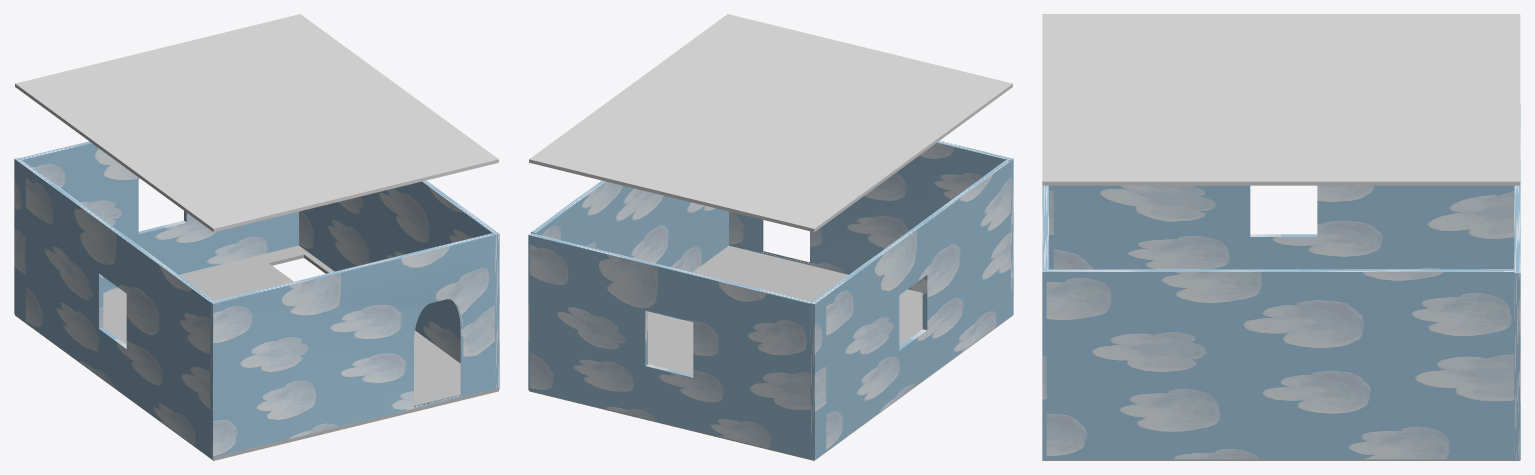
Rendered from duvarsonhali.fbx.
3 renders of one model, left to right at view 1: azimuth 30°, elevation 25°; view 2: azimuth 150°, elevation 25°; view 3: azimuth 270°, elevation 25°, orthographic. The views are drawn at different scales.
Parts seen in each view (by area): view 1: tavan 1, Duvar4, Duvar 1, Duvar 3, Duvar 2, zemin 1; view 2: tavan 1, Duvar 2, Duvar 1, Duvar4, Duvar 3, zemin 1; view 3: Duvar 3, tavan 1, Duvar 1, Duvar 2, zemin 1, Duvar4.
Boxes of the visible parts, x1,y1,x2,y2 form: tavan 1: (15, 14, 498, 232); Duvar4: (210, 233, 494, 459); Duvar 1: (14, 157, 213, 456); Duvar 3: (299, 180, 499, 389); Duvar 2: (20, 141, 298, 292); zemin 1: (15, 245, 498, 460); tavan 1: (529, 14, 1012, 232); Duvar 2: (528, 233, 811, 458); Duvar 1: (810, 160, 1010, 459); Duvar4: (729, 140, 1013, 315); Duvar 3: (531, 180, 728, 272); zemin 1: (529, 245, 1012, 460); Duvar 3: (1042, 269, 1514, 459); tavan 1: (1042, 14, 1520, 185); Duvar 1: (1049, 104, 1520, 269); Duvar 2: (1514, 107, 1520, 459); zemin 1: (1042, 459, 1520, 460); Duvar4: (1042, 185, 1048, 269).
Size of the model in its own units: 1861 by 1440 by 2236.
